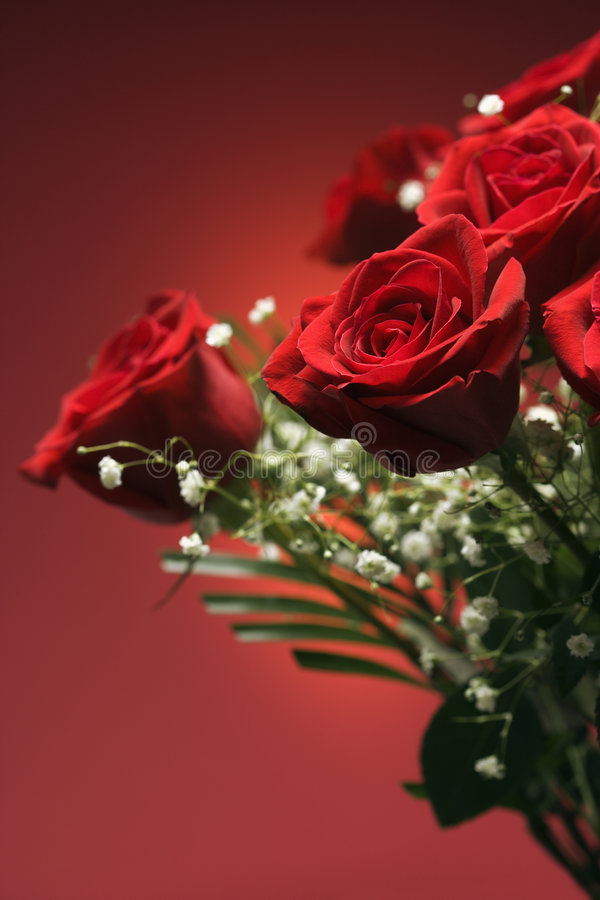RedRose: (252, 227, 535, 489), (23, 260, 270, 534), (398, 110, 600, 256), (452, 23, 600, 135)
